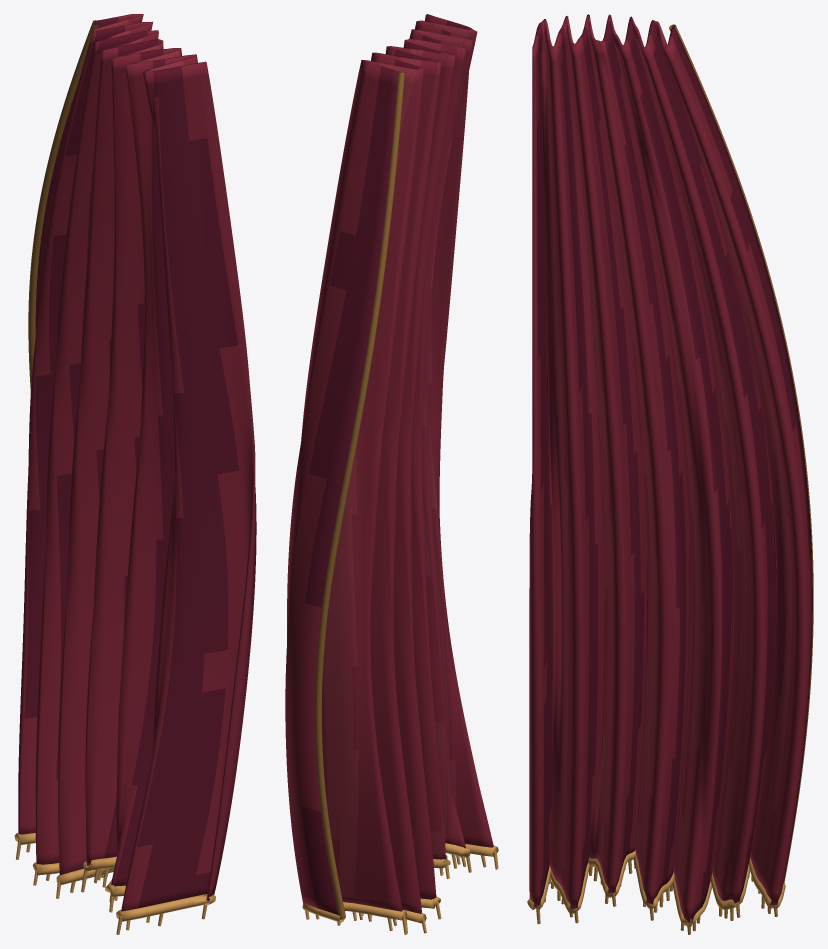
The model's file is SM_Menu_CurtainRight.fbx.
3 renders of one model, left to right at view 1: azimuth 30°, elevation 25°; view 2: azimuth 150°, elevation 25°; view 3: azimuth 270°, elevation 25°, orthographic. The views are drawn at different scales.
Visible parts, largest first — view 1: SM_Menu_CurtainRight; view 2: SM_Menu_CurtainRight; view 3: SM_Menu_CurtainRight.
Boxes of the visible parts, x1=… form: SM_Menu_CurtainRight: x1=14, y1=14, x2=256, y2=934; SM_Menu_CurtainRight: x1=285, y1=14, x2=498, y2=934; SM_Menu_CurtainRight: x1=527, y1=14, x2=813, y2=934.
Bounding box in the file's own units: 101 × 178 × 610.
